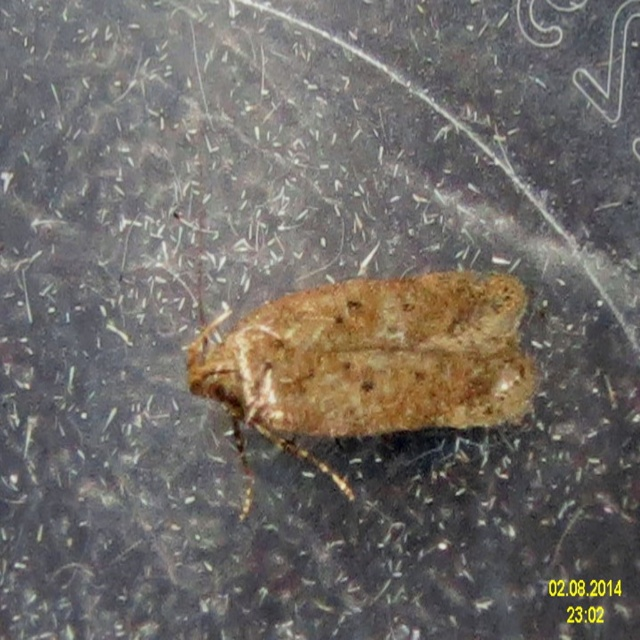Moths and butterflies: (183, 141, 547, 528)
